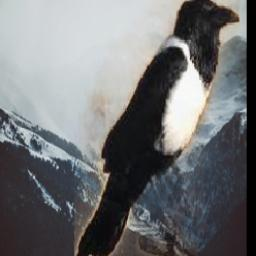Crow: (74, 0, 239, 256)
